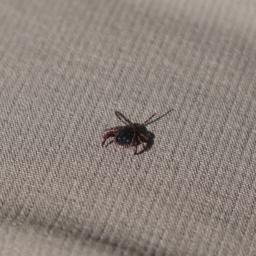Rhipicephalus sanguineus: (100, 111, 172, 157)
